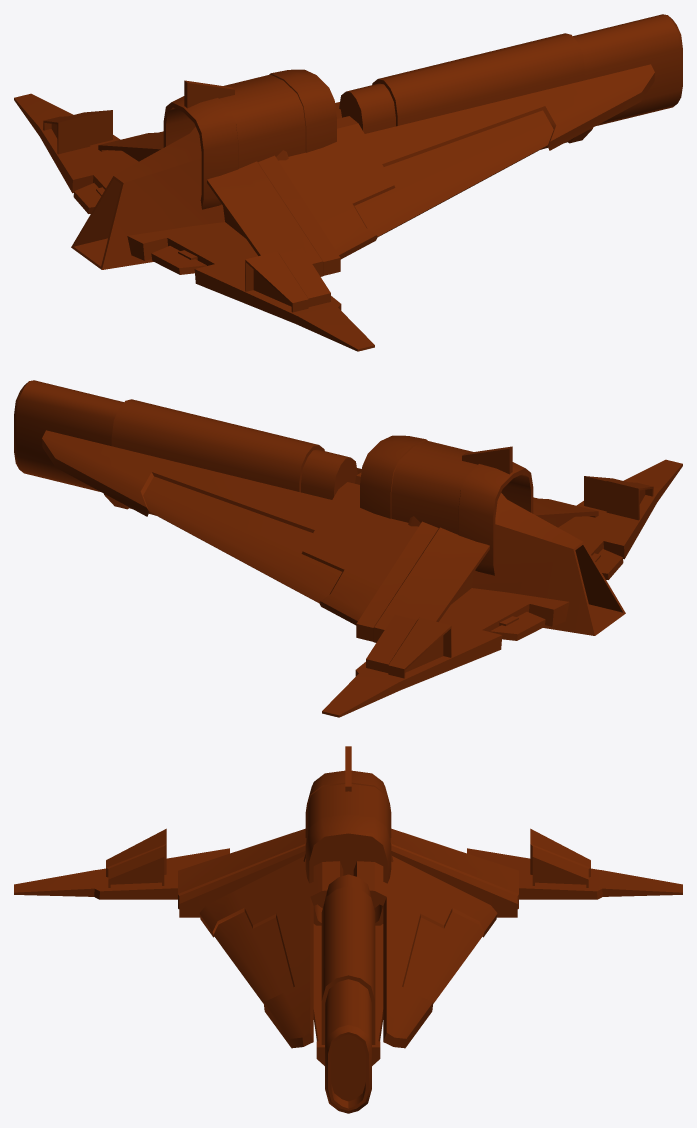
The model's file is EnemyTypeBomber.obj.
3 views of the same model, one above another, from view 1: azimuth 30°, elevation 25°; view 2: azimuth 150°, elevation 25°; view 3: azimuth 270°, elevation 25° (orthographic). The views are drawn at different scales.
Visible parts, largest first — view 1: EnemyTypeBomber_Bomber; view 2: EnemyTypeBomber_Bomber; view 3: EnemyTypeBomber_Bomber.
Part boxes in pixels (left/top/right/bottom): EnemyTypeBomber_Bomber: left=14, top=14, right=682, bottom=351; EnemyTypeBomber_Bomber: left=14, top=380, right=682, bottom=717; EnemyTypeBomber_Bomber: left=14, top=746, right=682, bottom=1113.
Bounding box in the file's own units: 1.26 × 0.3139 × 1.28.
